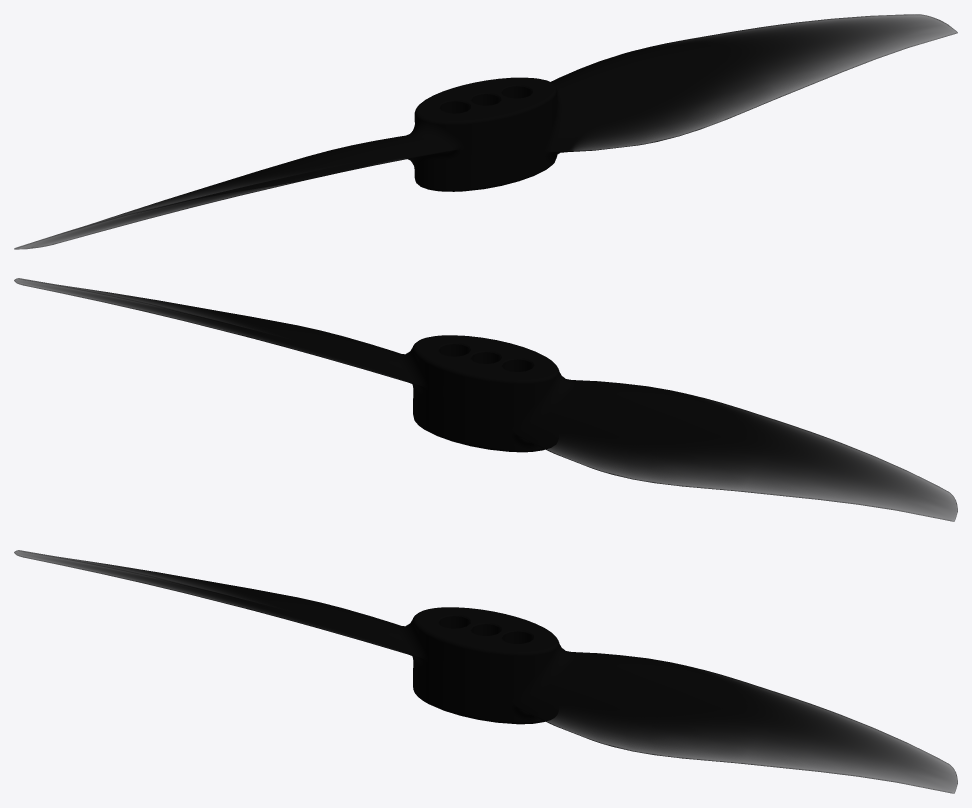
File: 3_bi-blade_propeller.glb
3 renders of one model, top to bottom at view 1: azimuth 30°, elevation 25°; view 2: azimuth 150°, elevation 25°; view 3: azimuth 330°, elevation 25°, orthographic. The views are drawn at different scales.
Parts seen in each view (by area): view 1: Prop3in; view 2: Prop3in; view 3: Prop3in.
Boxes of the visible parts, box(x1,y1,x2,y2) form: Prop3in: box(14, 14, 957, 249); Prop3in: box(14, 278, 957, 521); Prop3in: box(14, 550, 957, 793).
Bounding box in the file's own units: 0.0752 × 0.0055 × 0.00713.
1 material, 1 textured.
